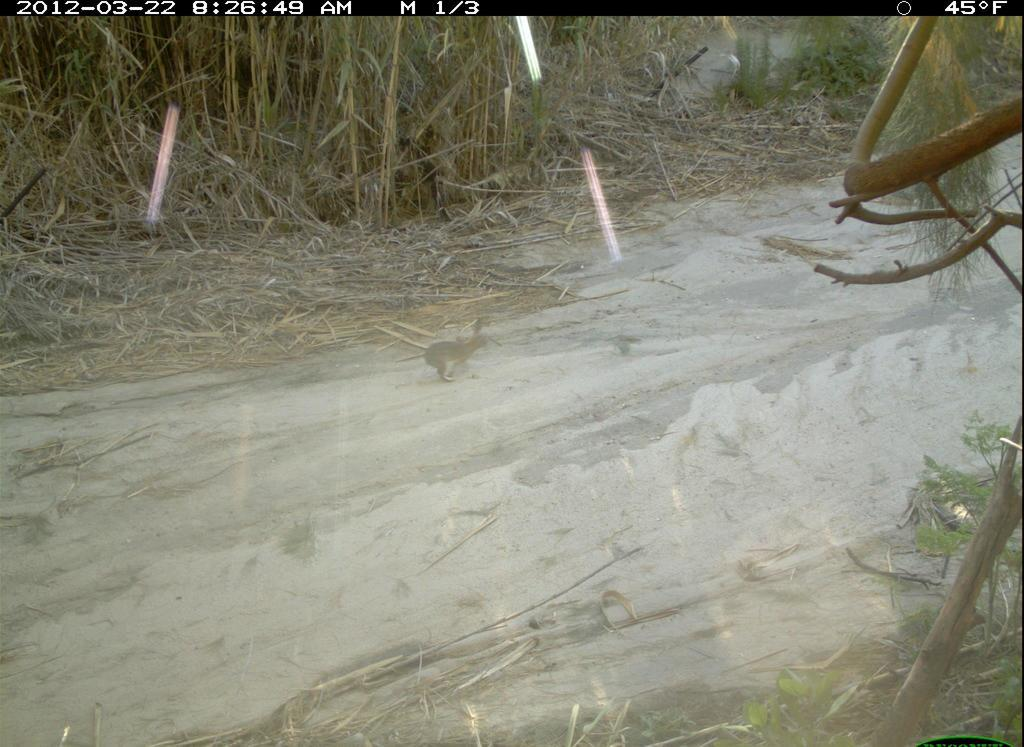rabbit: (408, 321, 505, 385)
